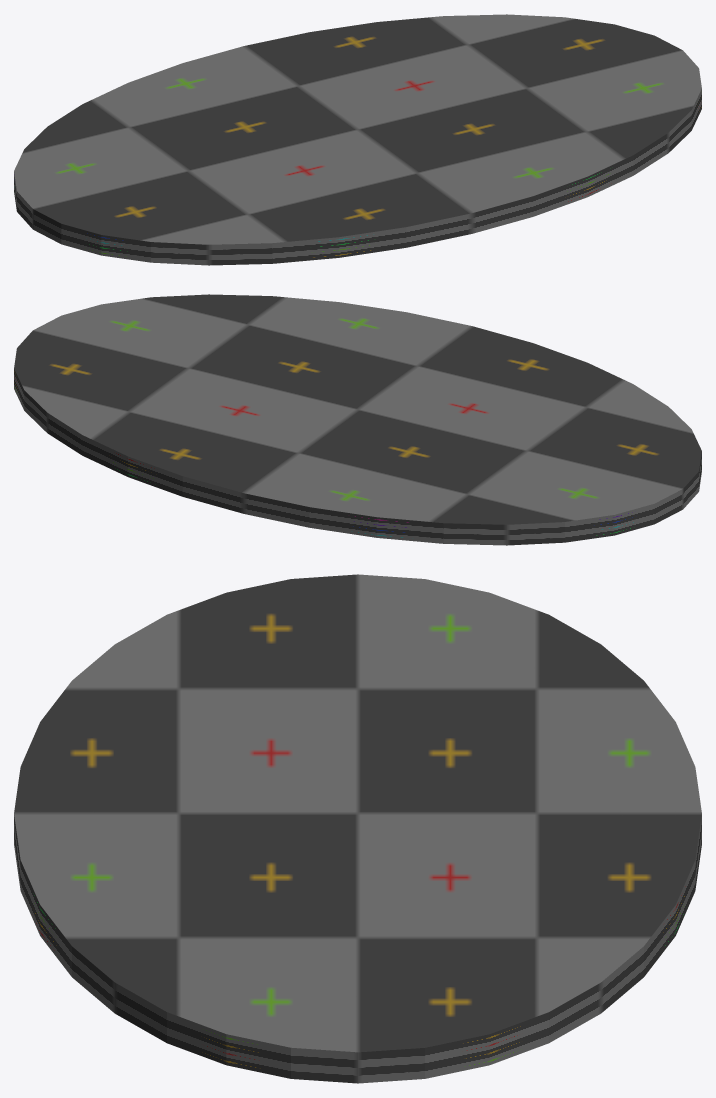
File: portal.gltf
3 renders of one model, top to bottom at view 1: azimuth 30°, elevation 25°; view 2: azimuth 150°, elevation 25°; view 3: azimuth 270°, elevation 25°, orthographic. The views are drawn at different scales.
Parts seen in each view (by area): view 1: Portal; view 2: Portal; view 3: Portal.
Boxes of the visible parts, <box> form: Portal: <box>14,14,701,265</box>; Portal: <box>14,294,701,545</box>; Portal: <box>14,574,701,1083</box>.
Size of the model in its own units: 3.29 by 0.1 by 2.
Materials: 1 (1 with a texture image).
